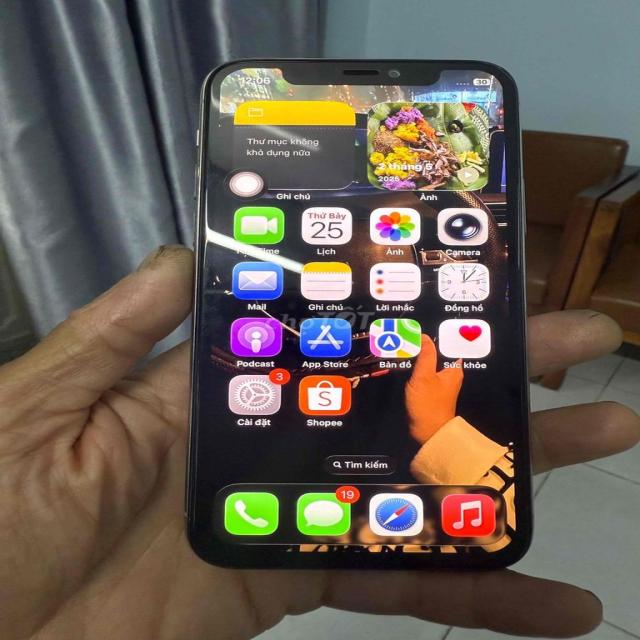gen_11: (178, 44, 542, 582)
